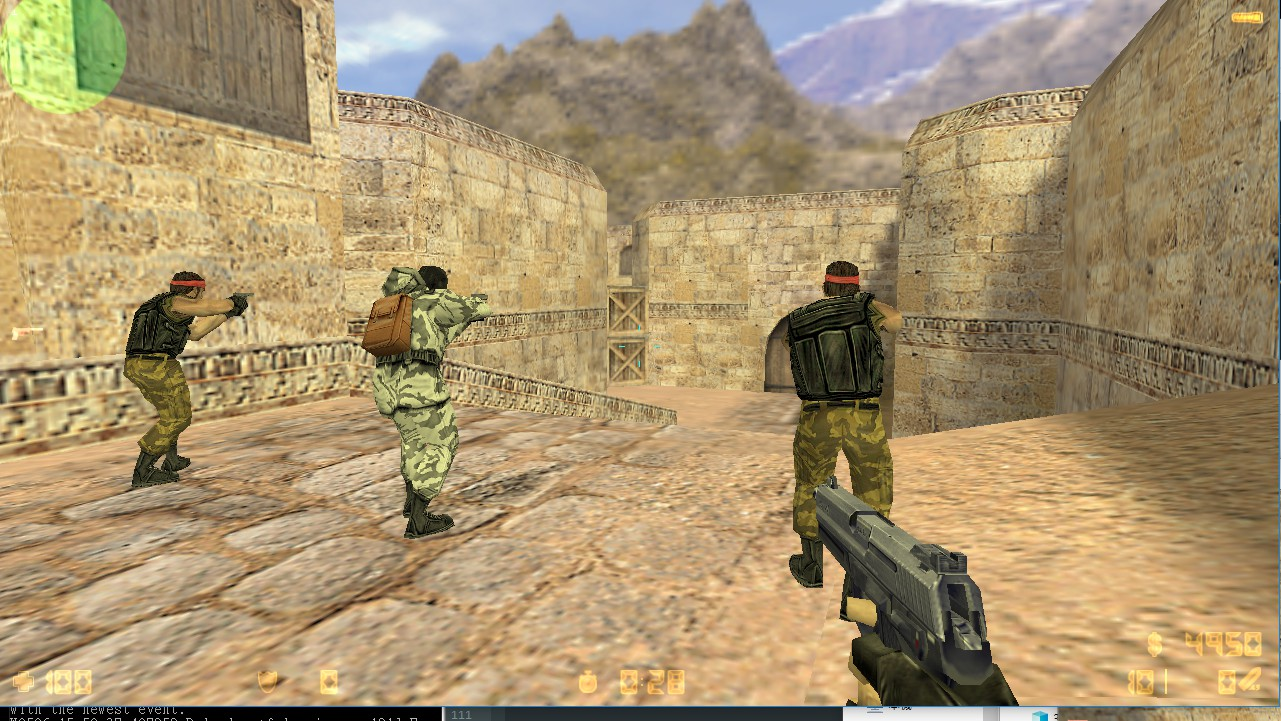person: (349, 225, 495, 566), (770, 253, 907, 597), (110, 265, 218, 491)
